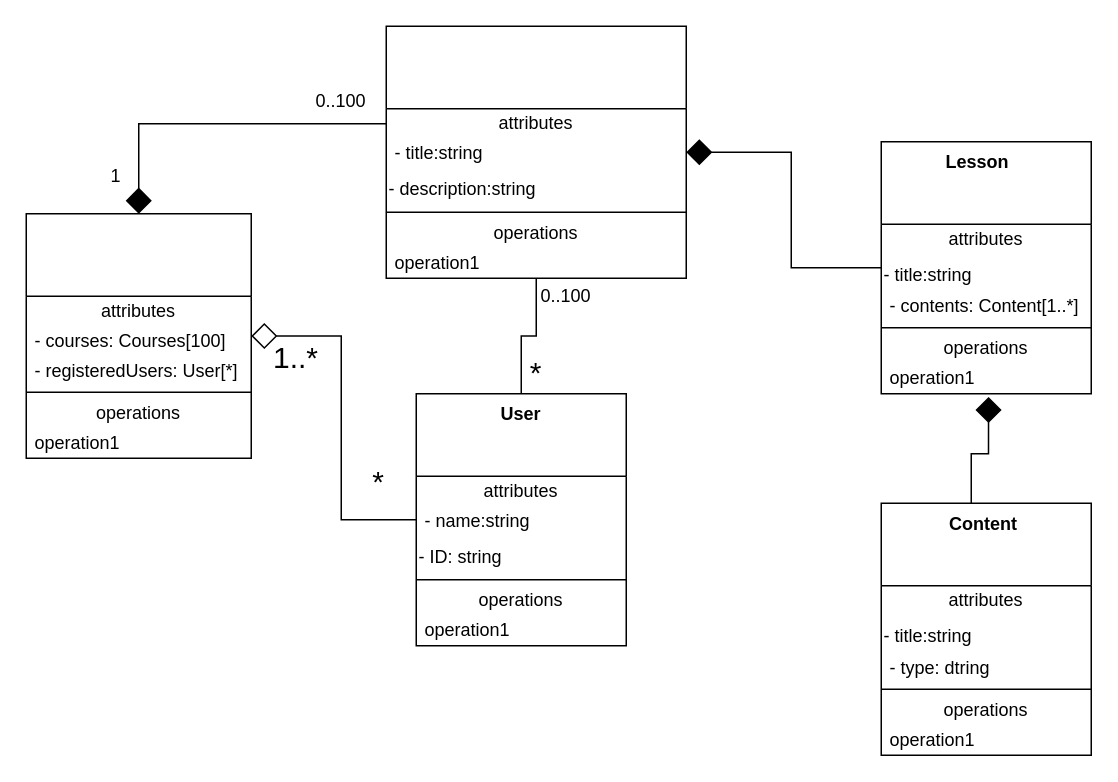
This 1118x782 diagram has some shape labels left out. The box of each missing label's shape, as (x1, y1, x2, y2) in pixels:
Course: (385, 25, 686, 278)
Platform: (25, 212, 251, 458)
